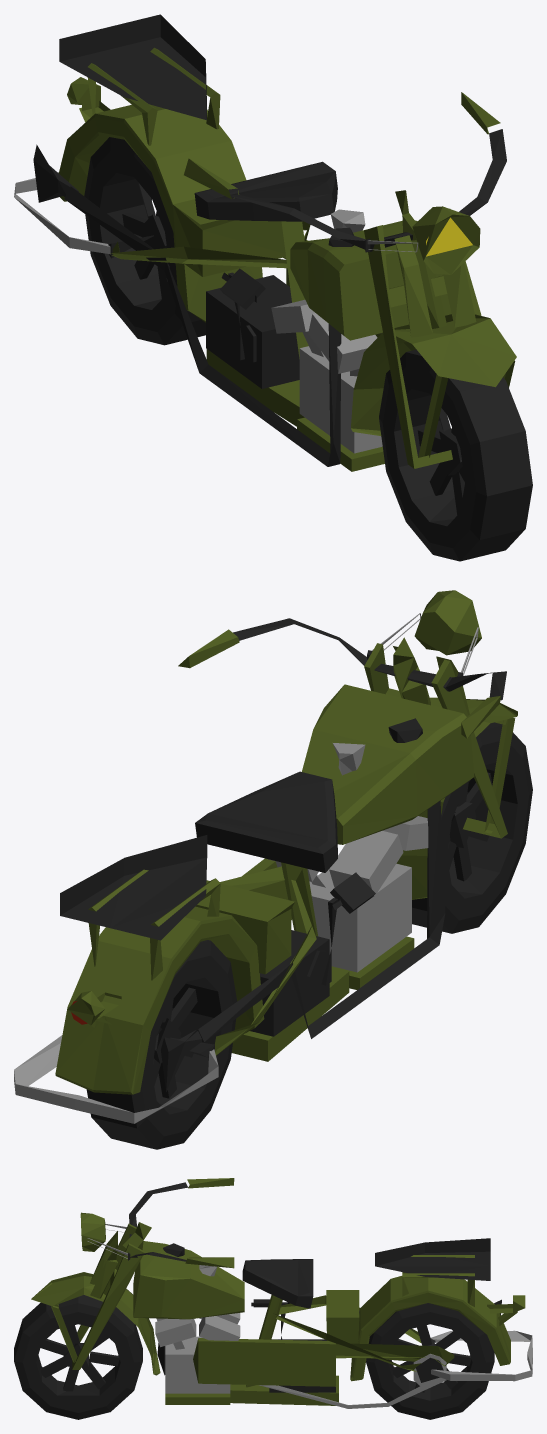
File: Military_Motorbike.glb
The picture shows the model from 3 angles, top to bottom: view 1: azimuth 30°, elevation 25°; view 2: azimuth 150°, elevation 25°; view 3: azimuth 270°, elevation 25°; orthographic projection. The views are drawn at different scales.
Parts seen in each view (by area): view 1: Motor; view 2: Motor; view 3: Motor.
Part boxes in pixels (x1,y1,x2,y2): Motor: [14, 14, 532, 561]; Motor: [14, 590, 532, 1149]; Motor: [14, 1178, 532, 1419].
Size of the model in its own units: 2 by 2.21 by 5.21.
